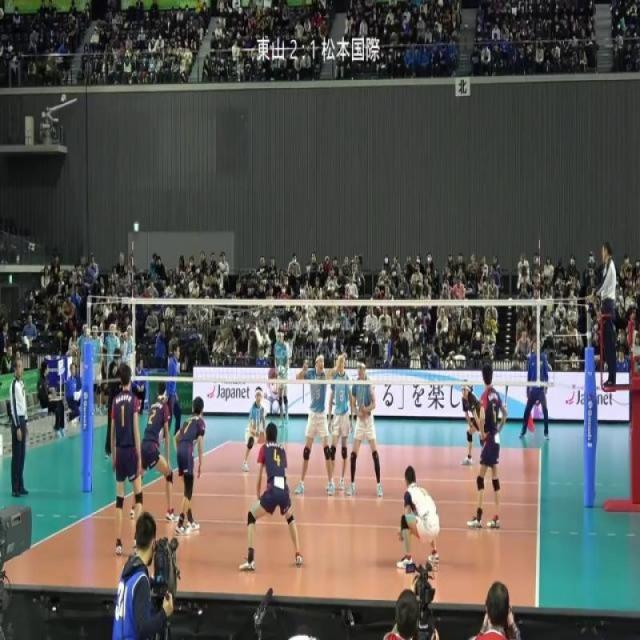volleyball: (277, 364, 285, 378)
